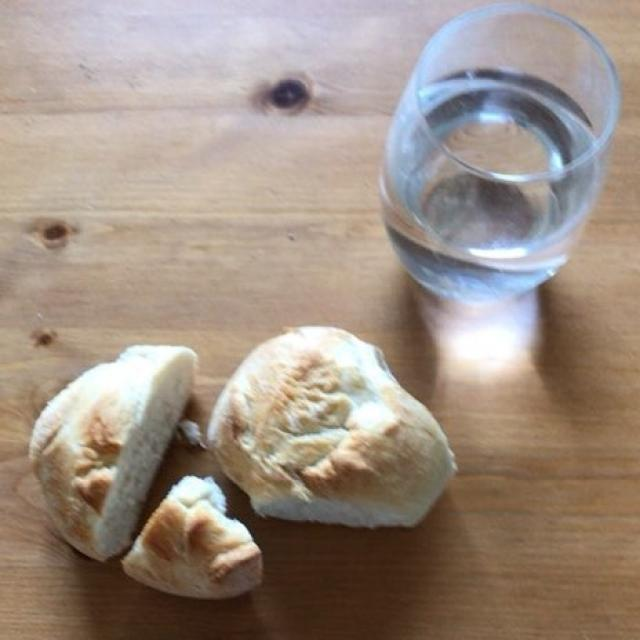bread: (30, 330, 464, 592)
water: (394, 72, 590, 291)
